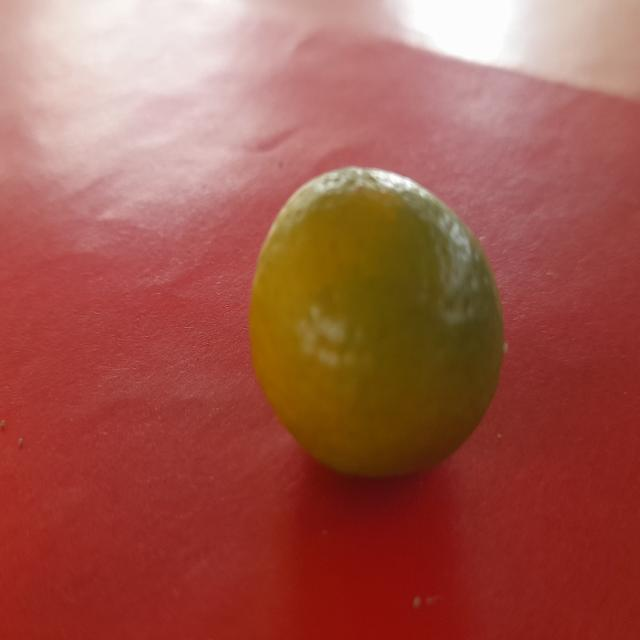greening: (244, 171, 506, 483)
